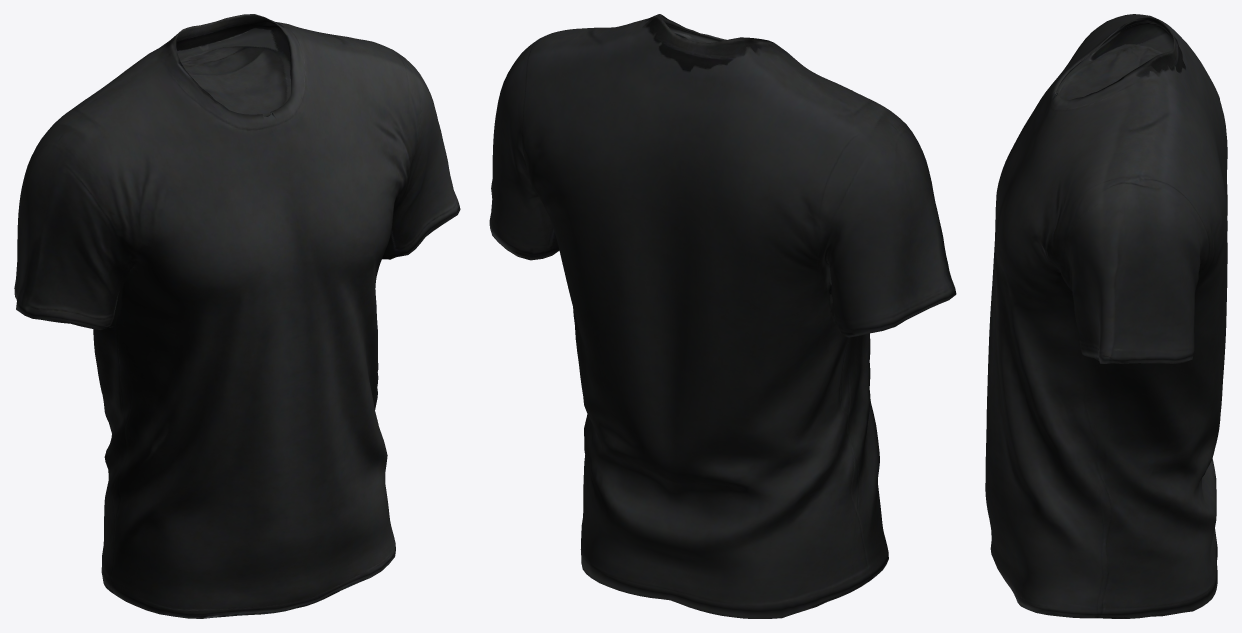
The model's file is shirt3.glb.
The picture shows the model from 3 angles, left to right: view 1: azimuth 30°, elevation 25°; view 2: azimuth 150°, elevation 25°; view 3: azimuth 270°, elevation 25°; orthographic projection. The views are drawn at different scales.
Bounding box in the file's own units: 1.75 × 2.01 × 0.8348.
Materials: 1 (1 with a texture image).
